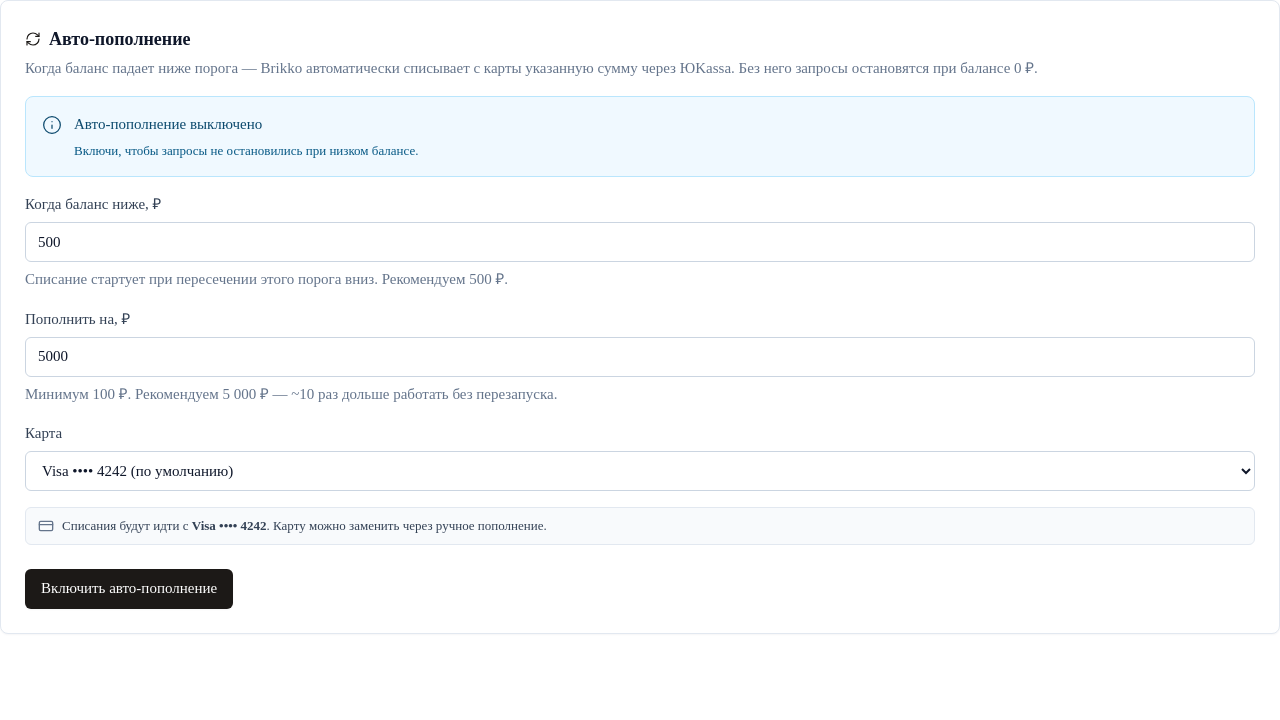
Test case: <AutoRefillCard> (Sprint 8) › validation: порог > сумма → ошибка inline, save не вызывается
This screenshot has width=1280, height=720.
Replace the text in the number field with test id "autorefill-threshold" with "10000": [640, 242] box [25,222,1255,262]
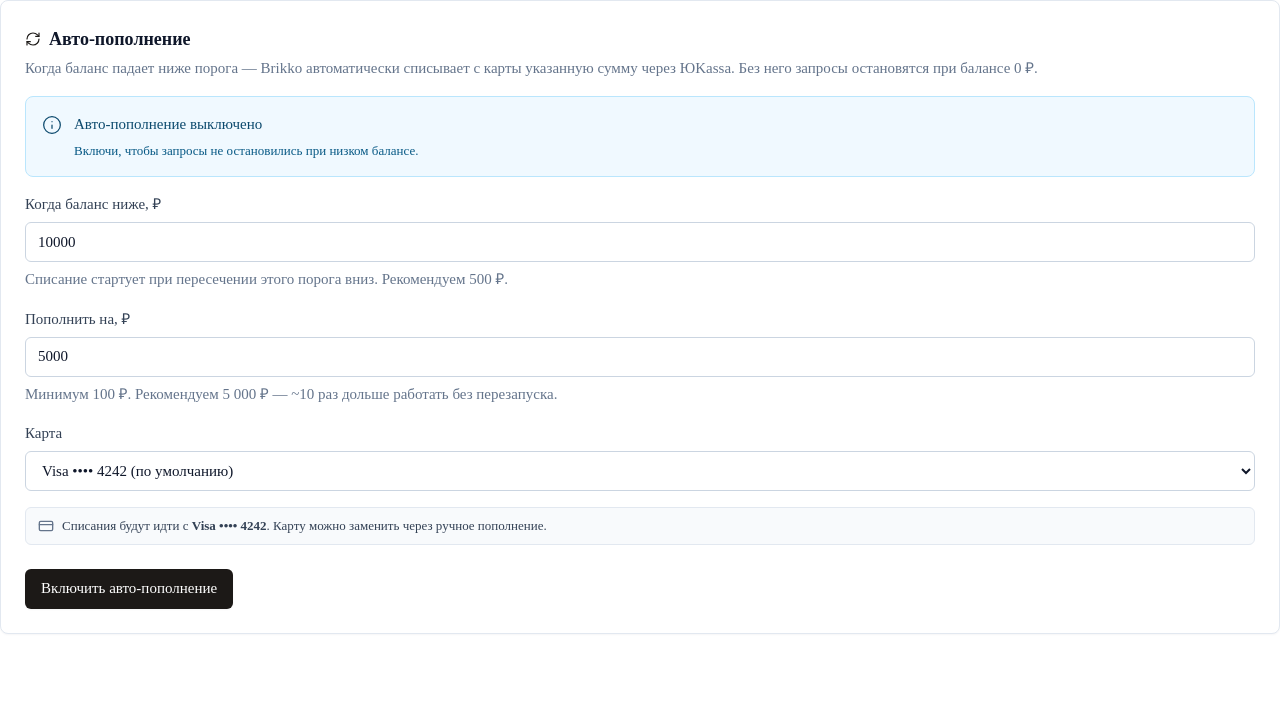
Click the button with test id "autorefill-save": [129, 589] box [25,569,233,609]
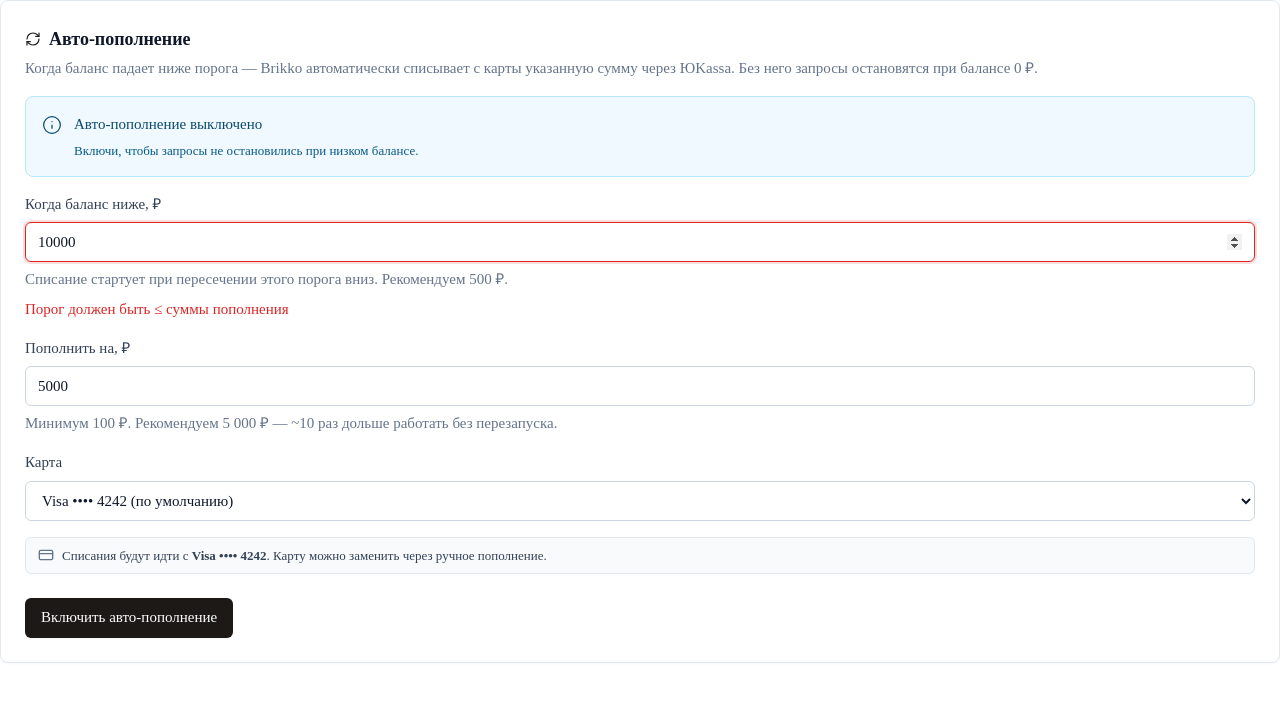
Expected: the text "Порог должен быть ≤ суммы пополнения" is shown, [25,300,289,316]
